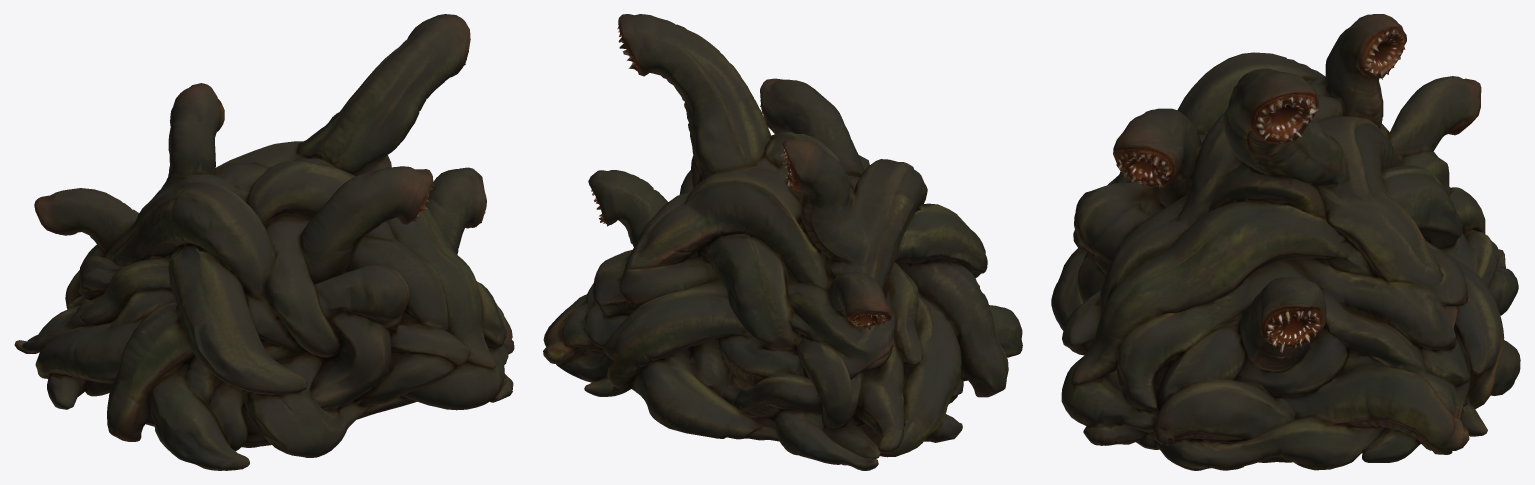
The model's file is LeechSwarm-tripo.glb.
3 views of the same model, side by side, from view 1: azimuth 30°, elevation 25°; view 2: azimuth 150°, elevation 25°; view 3: azimuth 270°, elevation 25° (orthographic). The views are drawn at different scales.
Visible parts, largest first — view 1: tripo_node_fd9576cb-b3f9-49a4-8363-8d948c50971d; view 2: tripo_node_fd9576cb-b3f9-49a4-8363-8d948c50971d; view 3: tripo_node_fd9576cb-b3f9-49a4-8363-8d948c50971d.
Part boxes in pixels (x1,y1,x2,y2): tripo_node_fd9576cb-b3f9-49a4-8363-8d948c50971d: (14, 14, 514, 470); tripo_node_fd9576cb-b3f9-49a4-8363-8d948c50971d: (543, 14, 1022, 470); tripo_node_fd9576cb-b3f9-49a4-8363-8d948c50971d: (1051, 14, 1520, 470).
Bounding box in the file's own units: 1 × 0.7764 × 0.8499.
1 material, 1 textured.
